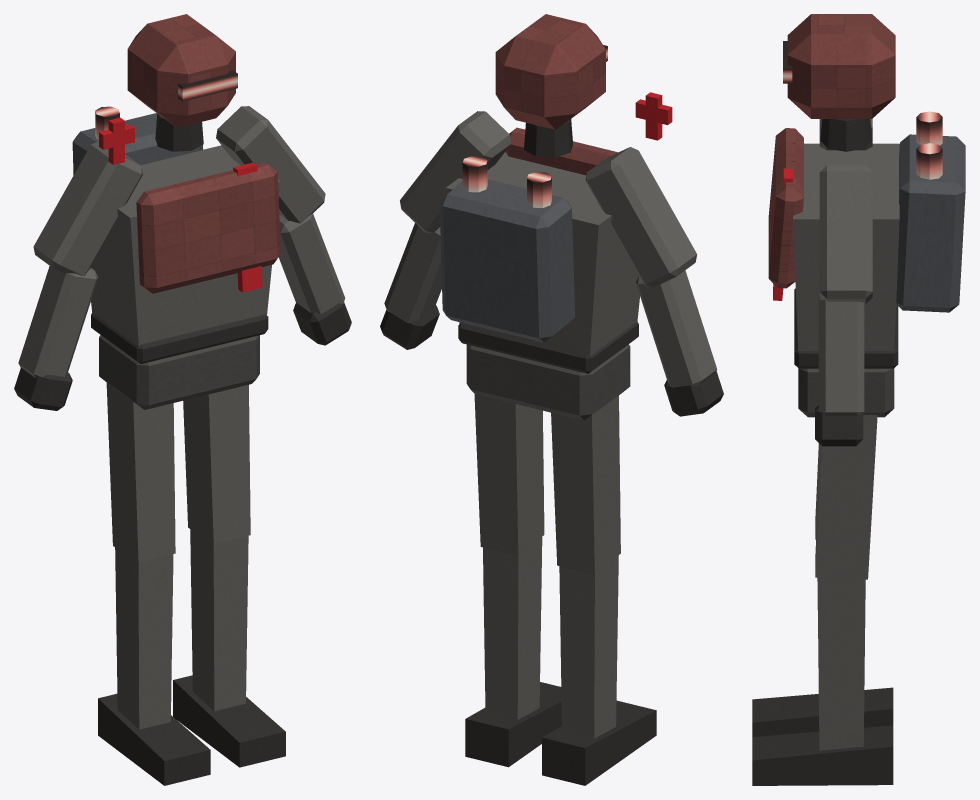
The model's file is char_medtech.obj.
The picture shows the model from 3 angles, left to right: view 1: azimuth 30°, elevation 25°; view 2: azimuth 150°, elevation 25°; view 3: azimuth 270°, elevation 25°; orthographic projection. The views are drawn at different scales.
Visible parts, largest first — view 1: char_medtech; view 2: char_medtech; view 3: char_medtech.
Boxes of the visible parts, x1,y1,x2,y2 form: char_medtech: (14,14,351,785); char_medtech: (380,14,723,785); char_medtech: (752,14,965,785).
Bounding box in the file's own units: 0.8144 × 1.72 × 0.4541.
Materials: 1 (1 with a texture image).
